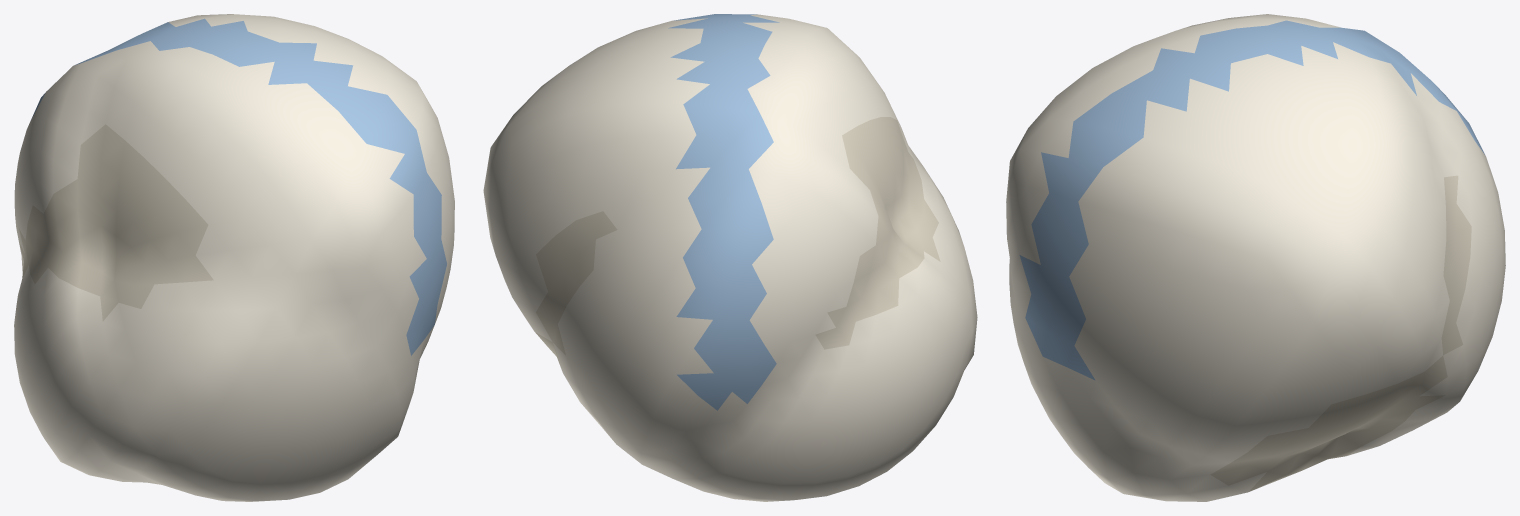
File: crumpled_paper.glb
3 views of the same model, side by side, from view 1: azimuth 30°, elevation 25°; view 2: azimuth 150°, elevation 25°; view 3: azimuth 270°, elevation 25° (orthographic). The views are drawn at different scales.
Parts seen in each view (by area): view 1: crumpled_paper; view 2: crumpled_paper; view 3: crumpled_paper.
Part boxes in pixels (bbox=[...]): crumpled_paper: bbox=[14, 14, 454, 501]; crumpled_paper: bbox=[483, 14, 977, 501]; crumpled_paper: bbox=[1006, 14, 1505, 501].
Bounding box in the file's own units: 1 × 0.96 × 1.
Materials: 1 (1 with a texture image).
